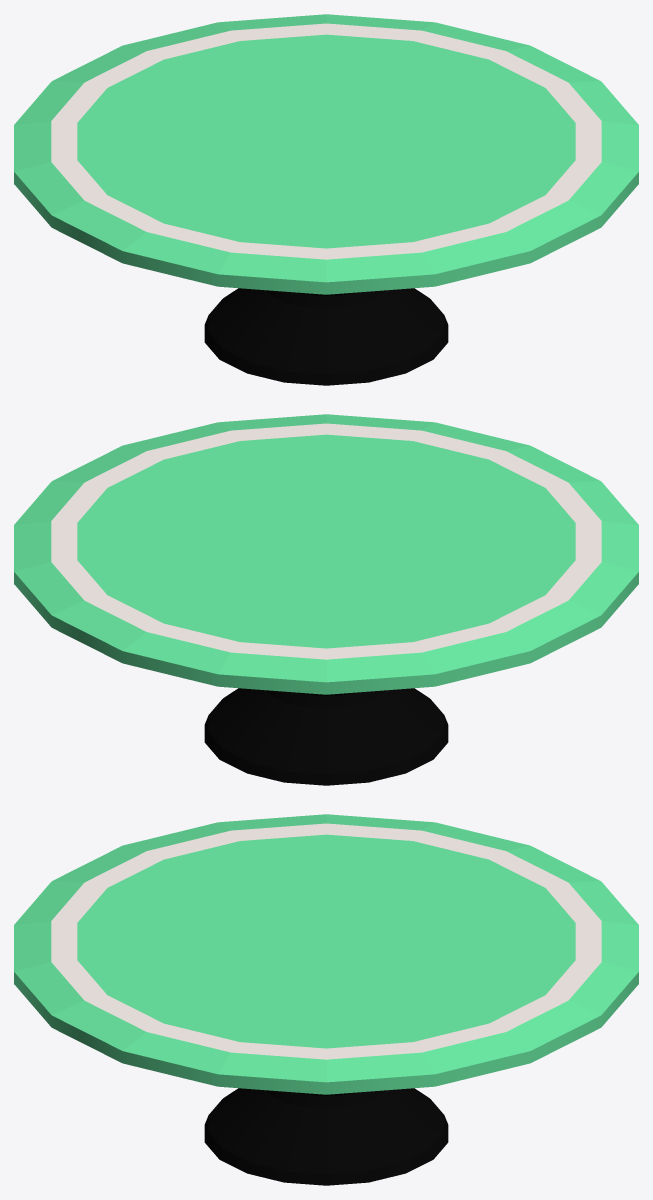
File: ban 4_08.FBX
3 views of the same model, one above another, from view 1: azimuth 30°, elevation 25°; view 2: azimuth 150°, elevation 25°; view 3: azimuth 270°, elevation 25° (orthographic).
Visible parts, largest first — view 1: Cylinder133; view 2: Cylinder133; view 3: Cylinder133.
Part boxes in pixels (x1=…): Cylinder133: x1=14, y1=14, x2=638, y2=385; Cylinder133: x1=14, y1=414, x2=638, y2=785; Cylinder133: x1=14, y1=814, x2=638, y2=1185.
Bounding box in the file's own units: 4.22 × 1.41 × 4.16.
